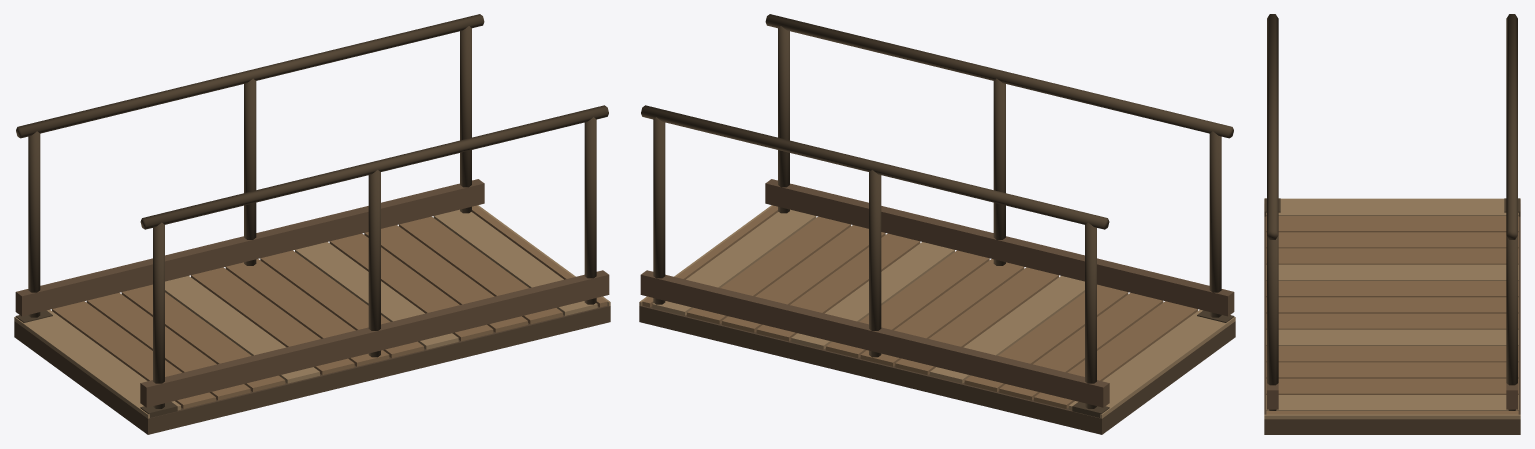
File: boarding_gangplank.glb
3 renders of one model, left to right at view 1: azimuth 30°, elevation 25°; view 2: azimuth 150°, elevation 25°; view 3: azimuth 270°, elevation 25°, orthographic. The views are drawn at different scales.
Visible parts, largest first — view 1: boarding_gangplank; view 2: boarding_gangplank; view 3: boarding_gangplank.
Part boxes in pixels (box(x1,y1,x2,y2)): boarding_gangplank: box(14, 14, 610, 434); boarding_gangplank: box(639, 14, 1235, 434); boarding_gangplank: box(1264, 14, 1520, 434).
Bounding box in the file's own units: 2.4 × 1.05 × 1.2.
